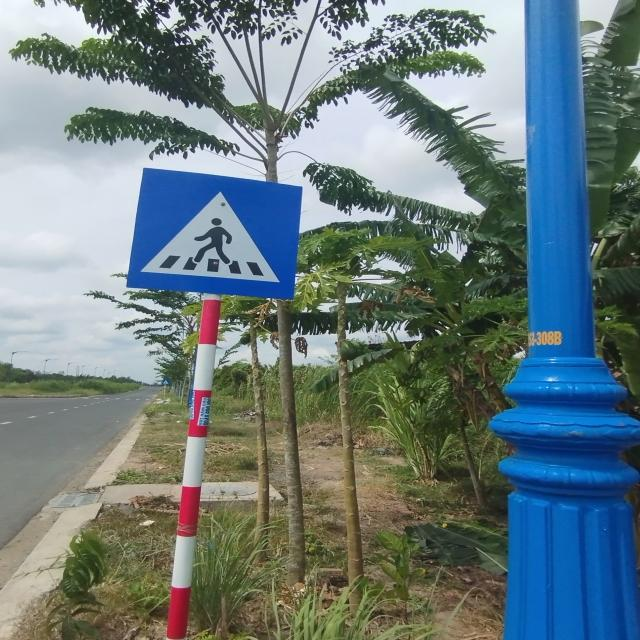Giao_Nhau_Duong_Uu_Tien: (124, 168, 304, 300)
